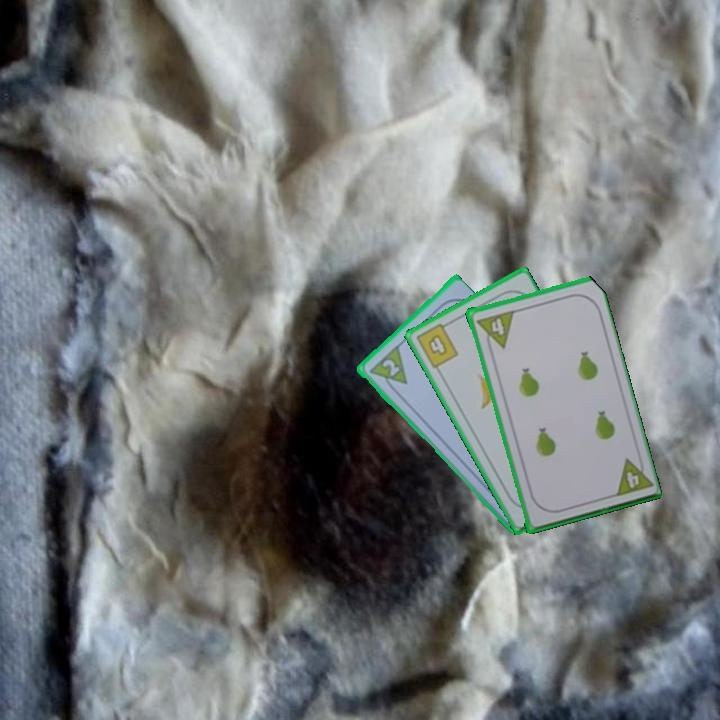2p: (378, 355, 402, 379)
4b: (412, 318, 461, 371)
4p: (485, 309, 516, 349), (622, 468, 642, 491)
